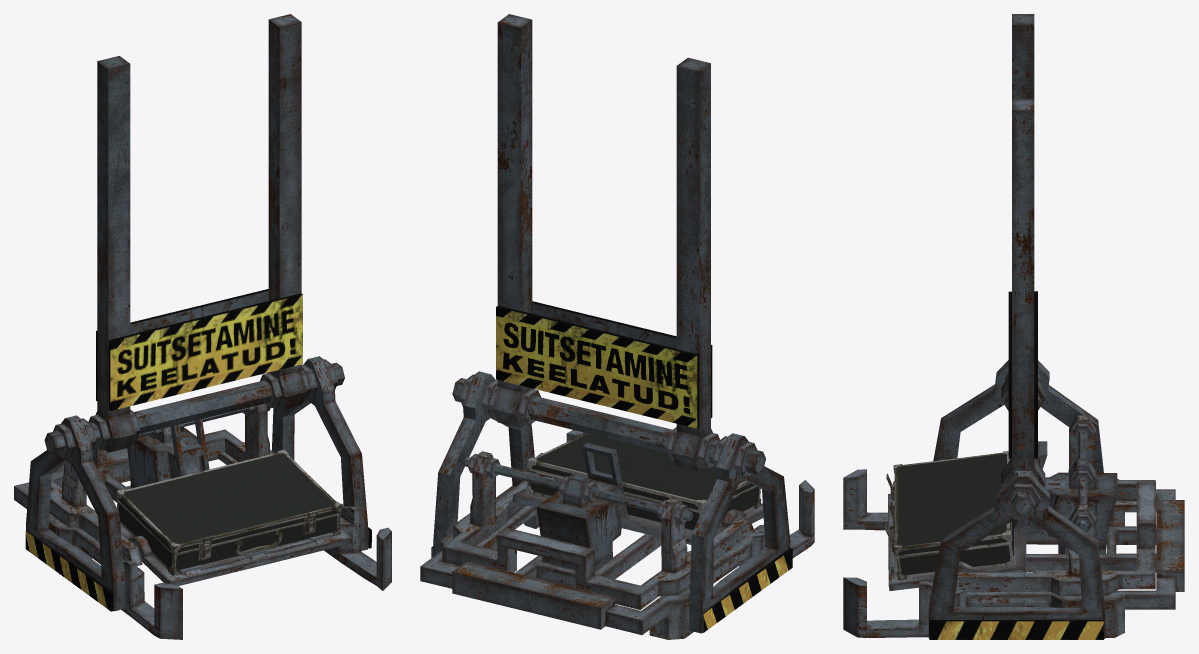
Rendered from mp_briefcase machine1.glb.
The picture shows the model from 3 angles, left to right: view 1: azimuth 30°, elevation 25°; view 2: azimuth 150°, elevation 25°; view 3: azimuth 270°, elevation 25°; orthographic projection. The views are drawn at different scales.
Parts seen in each view (by area): view 1: briefcase machine arms, briefcase machine caution sign_upper, briefcase hinge, briefcase machine side holders, briefcase machine main mover frame, briefcase machine static rail, briefcase machine pivot parent, briefcase parent, briefcase holder, briefcase machine caution sign_left; view 2: briefcase machine arms, briefcase machine main mover frame, briefcase machine caution sign_upper, briefcase machine static rail, briefcase machine side holders, briefcase hinge, briefcase machine pivot parent, briefcase machine caution sign_left, briefcase parent, briefcase holder; view 3: briefcase machine static rail, briefcase machine side holders, briefcase machine main mover frame, briefcase machine arms, briefcase hinge, briefcase machine caution sign_right, briefcase parent, briefcase holder, briefcase machine caution sign_upper, briefcase machine pivot parent.
Boxes of the visible parts, bbox=[...] form: briefcase machine arms: bbox=[95, 14, 306, 452]; briefcase machine caution sign_upper: bbox=[96, 289, 302, 410]; briefcase hinge: bbox=[116, 449, 341, 554]; briefcase machine side holders: bbox=[26, 356, 367, 611]; briefcase machine main mover frame: bbox=[49, 403, 274, 565]; briefcase machine static rail: bbox=[14, 448, 391, 639]; briefcase machine pivot parent: bbox=[44, 359, 344, 458]; briefcase parent: bbox=[117, 500, 340, 575]; briefcase holder: bbox=[120, 524, 351, 585]; briefcase machine caution sign_left: bbox=[25, 530, 113, 611]; briefcase machine arms: bbox=[492, 14, 712, 471]; briefcase machine main mover frame: bbox=[442, 442, 754, 609]; briefcase machine caution sign_upper: bbox=[496, 301, 712, 428]; briefcase machine static rail: bbox=[420, 430, 814, 639]; briefcase machine side holders: bbox=[433, 371, 790, 633]; briefcase hinge: bbox=[527, 432, 755, 512]; briefcase machine pivot parent: bbox=[452, 374, 765, 478]; briefcase machine caution sign_left: bbox=[702, 548, 792, 632]; briefcase parent: bbox=[525, 469, 761, 532]; briefcase holder: bbox=[512, 488, 763, 544]; briefcase machine static rail: bbox=[843, 469, 1184, 637]; briefcase machine side holders: bbox=[928, 360, 1105, 638]; briefcase machine main mover frame: bbox=[956, 415, 1155, 595]; briefcase machine arms: bbox=[1001, 14, 1045, 486]; briefcase hinge: bbox=[890, 451, 1012, 557]; briefcase machine caution sign_right: bbox=[929, 620, 1103, 639]; briefcase parent: bbox=[890, 491, 1015, 579]; briefcase holder: bbox=[888, 493, 1026, 590]; briefcase machine caution sign_upper: bbox=[1008, 291, 1037, 458]; briefcase machine pivot parent: bbox=[1005, 372, 1040, 515].
Bounding box in the file's own units: 8.93 × 15.01 × 8.94.
7 materials, 7 textured.
